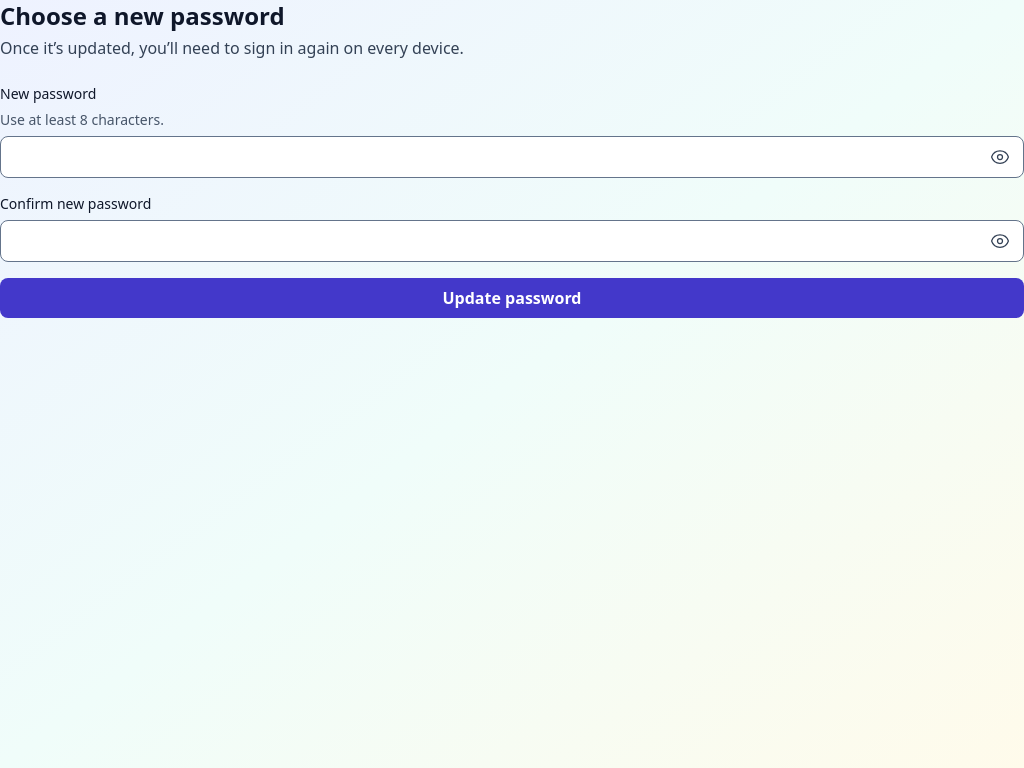
ResetPasswordForm › invalid link › replaces the form with the invalid-link state on invalid_reset_token
The image size is (1024, 768).
Type "correct horse" into the password field labelled "New password" at x=512, y=157, box [0,136,1023,178]
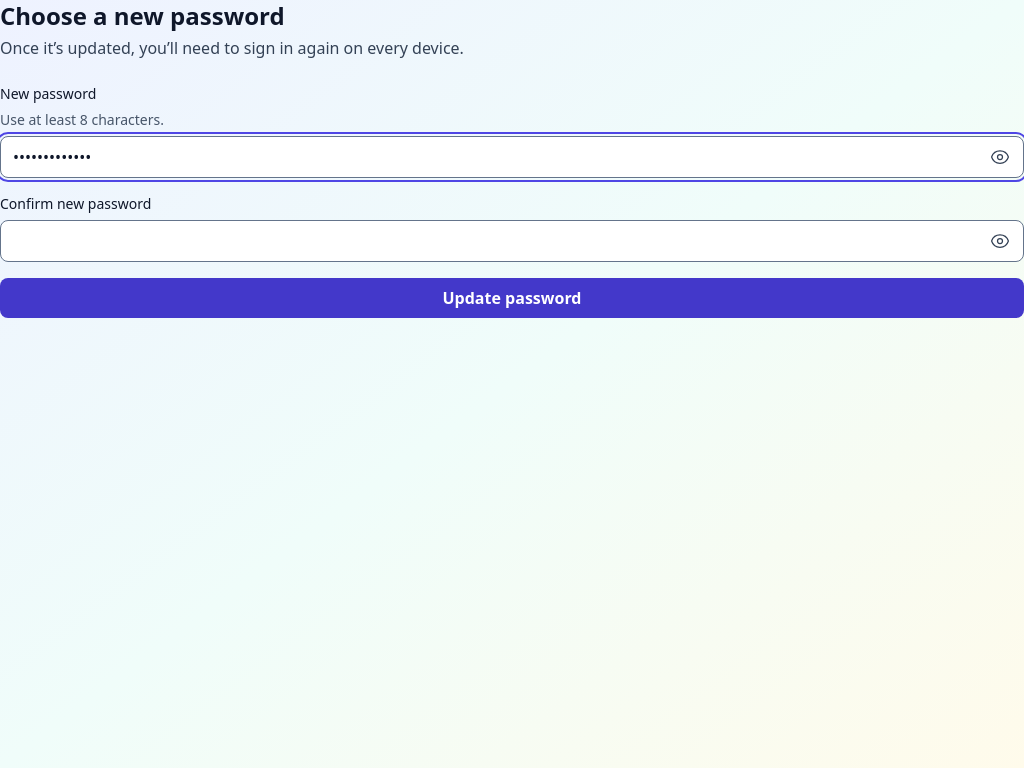
Type "correct horse" into the password field labelled "Confirm new password" at x=512, y=241, box [0,220,1023,262]
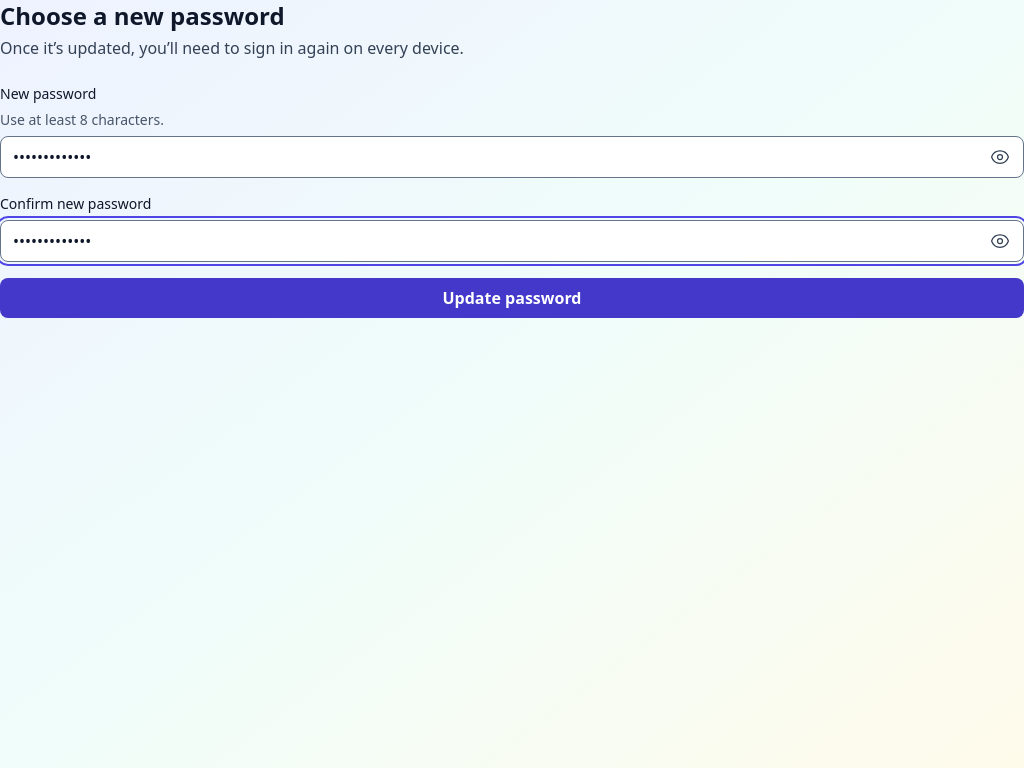
Click the button "Update password" at x=512, y=298, box [0,278,1023,318]
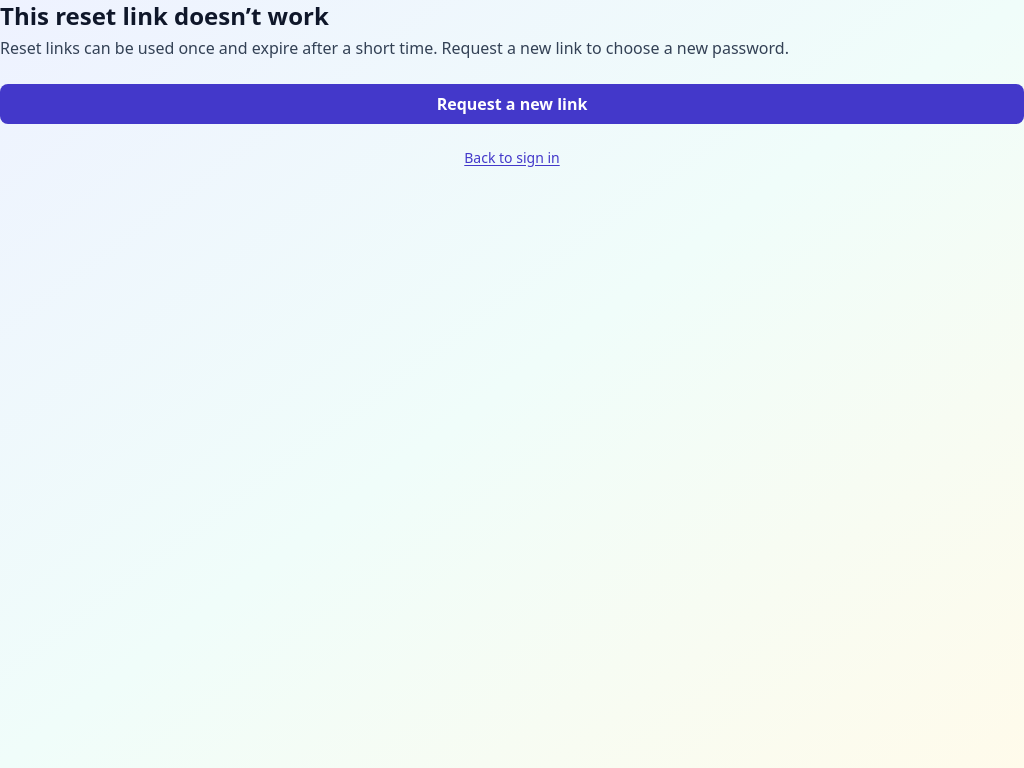
Now the password field labelled "Choose a new password" is gone
